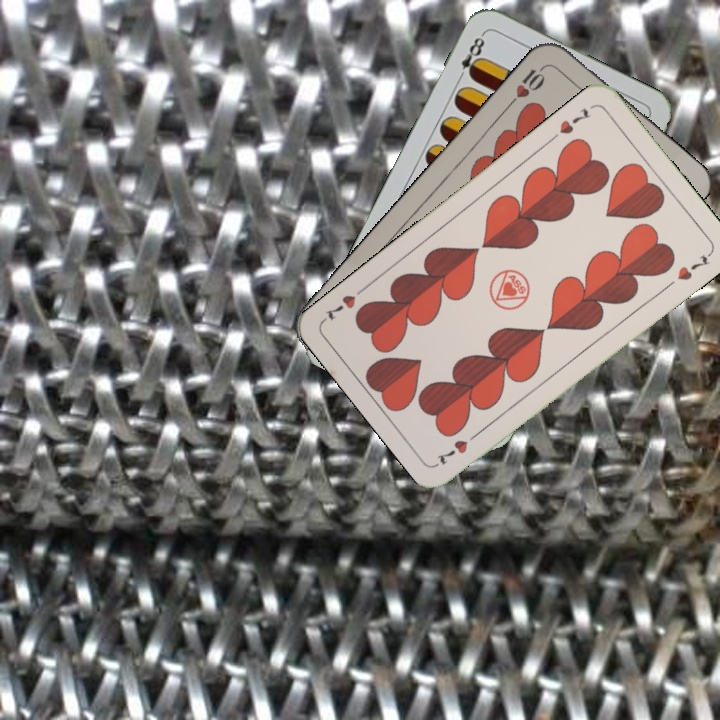E8: (453, 29, 488, 84)
H10: (505, 60, 550, 108)
H7: (433, 427, 484, 468), (546, 103, 592, 144)
